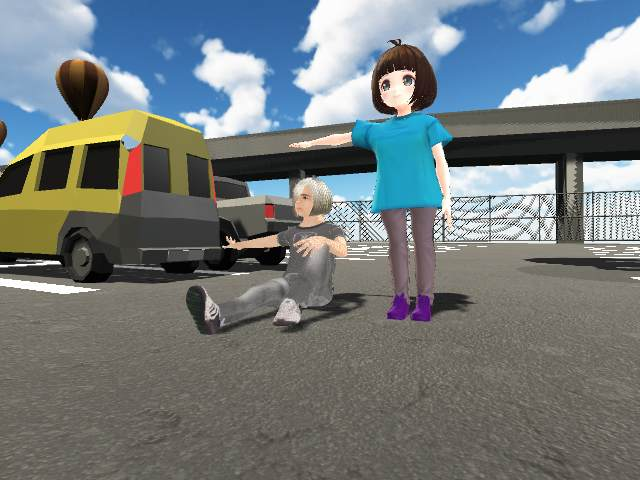doubleP_left: (186, 41, 458, 336)
